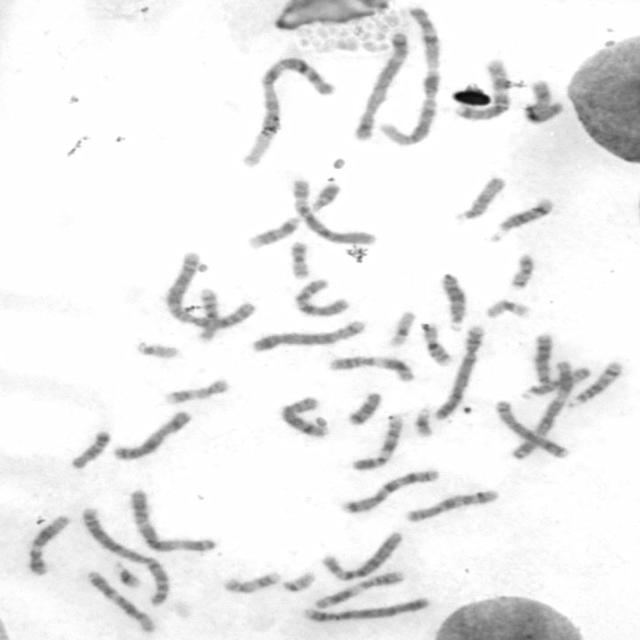A1: (236, 53, 337, 169), (376, 5, 444, 150)
A2: (78, 504, 172, 608), (160, 250, 258, 330)
A3: (507, 357, 577, 461), (125, 486, 219, 553)
B4: (430, 322, 487, 422), (297, 594, 431, 624)
B5: (350, 28, 412, 142), (248, 317, 368, 353)
C10: (400, 486, 500, 524), (290, 275, 352, 318)
C11: (309, 568, 405, 610), (324, 353, 418, 383)
C12: (84, 568, 157, 635), (22, 511, 72, 576)
C6: (288, 177, 377, 245), (316, 528, 404, 582)
C7: (337, 466, 442, 515), (451, 55, 513, 122)
C8: (491, 397, 570, 460), (276, 394, 330, 438)
C9: (246, 183, 342, 251), (347, 411, 405, 472)
D13: (437, 270, 468, 332), (529, 332, 556, 388)
D14: (485, 196, 555, 244), (565, 358, 624, 408)
D15: (516, 362, 594, 400), (450, 174, 508, 222)
E16: (193, 286, 223, 343), (418, 320, 454, 367)
E17: (160, 376, 232, 406), (219, 569, 282, 595)
E18: (67, 427, 114, 471), (343, 389, 383, 427)
F19: (480, 296, 535, 321), (384, 308, 418, 348)
F20: (504, 251, 537, 290), (286, 238, 313, 281)
G21: (111, 560, 143, 590), (411, 404, 436, 438)
G22: (132, 338, 182, 361), (279, 570, 317, 592)
X: (110, 408, 193, 462), (522, 77, 566, 125)
